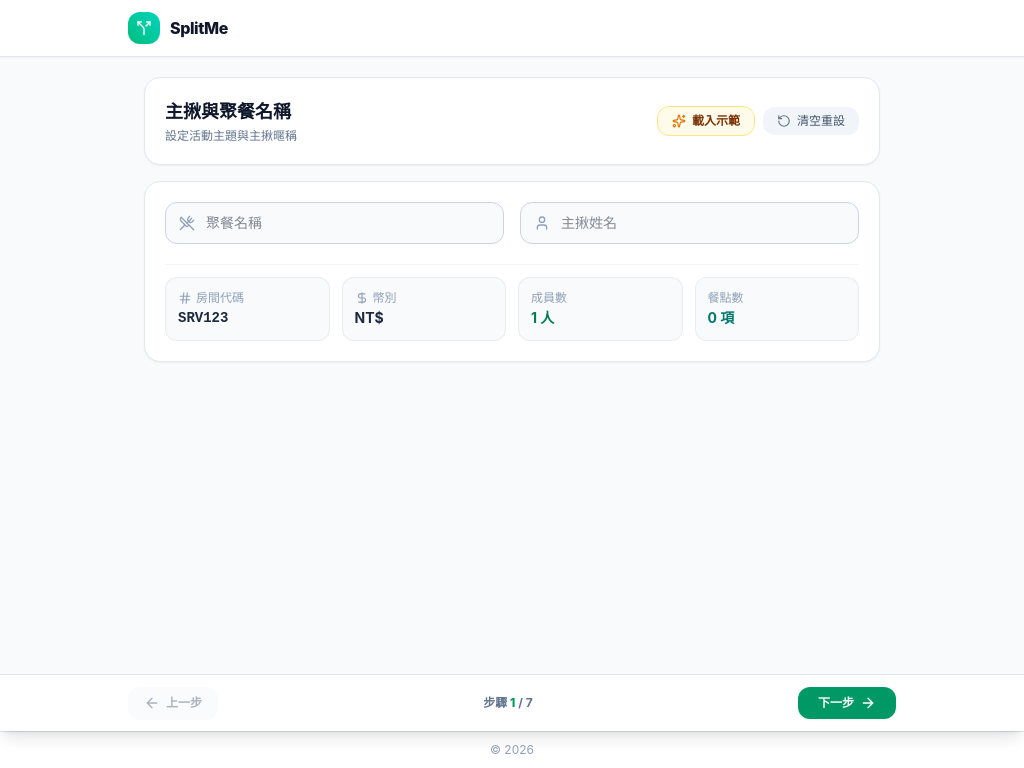
Scenario: App 7-Step Wizard Integration › gates collaborative share button in Step 5 based on live vs offline mode
Click the button "下一步": (847, 703) [798, 687, 896, 719]
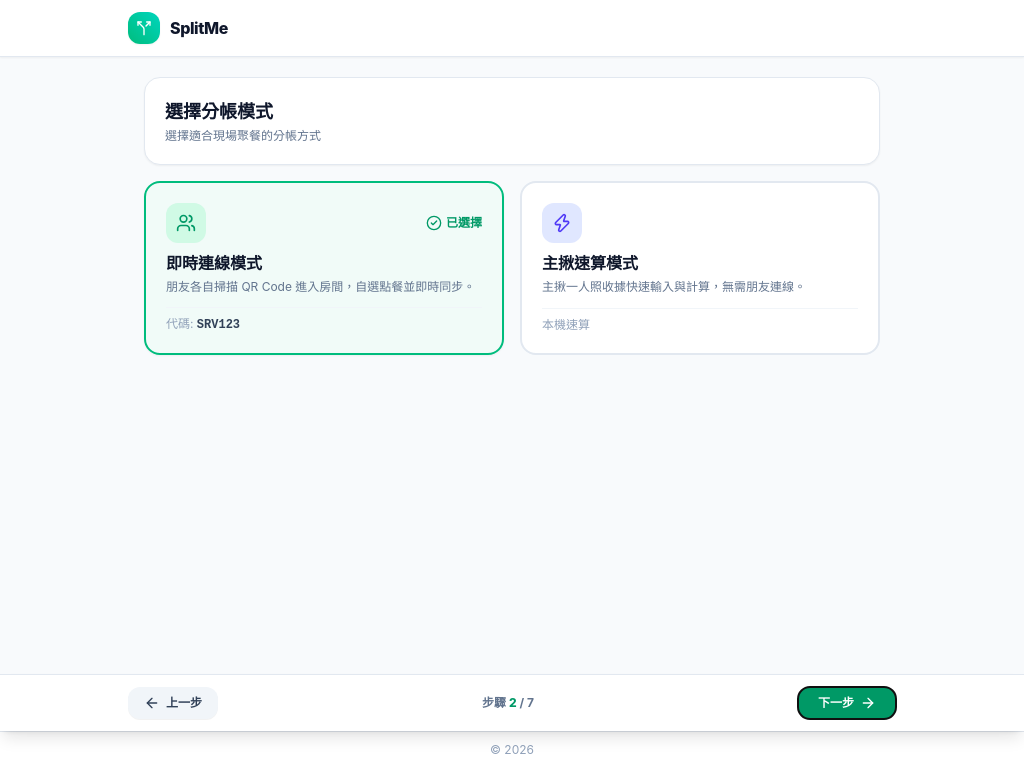
Click the button "下一步": (847, 703) [798, 687, 896, 719]
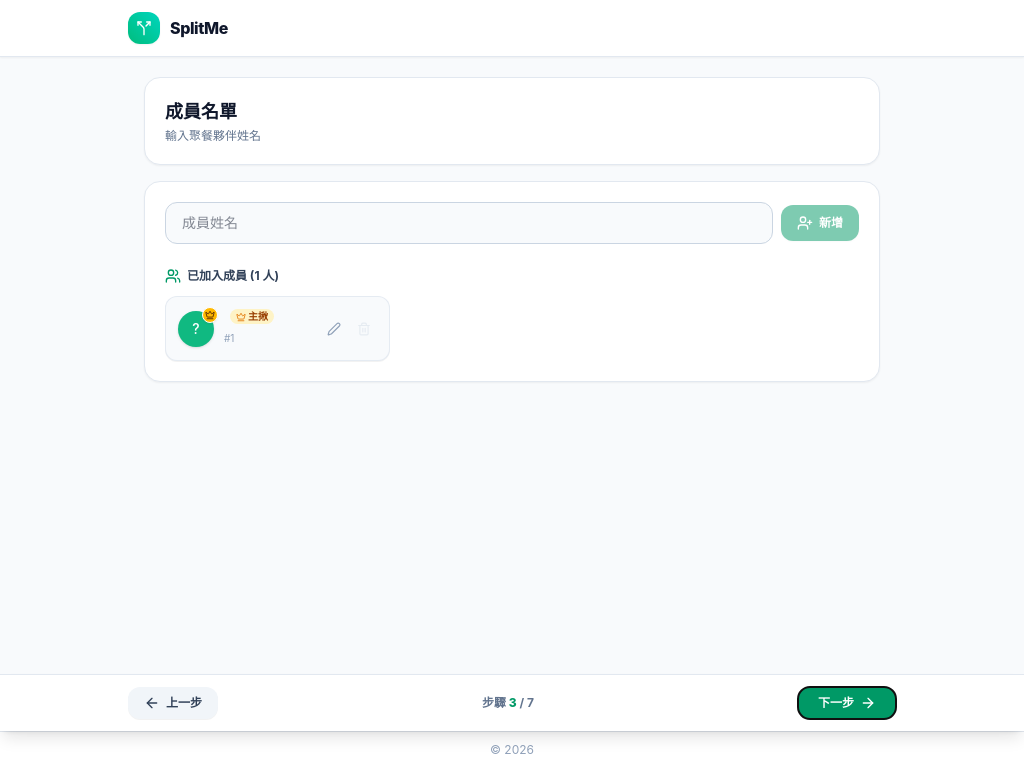
Click the button "下一步": (847, 703) [798, 687, 896, 719]
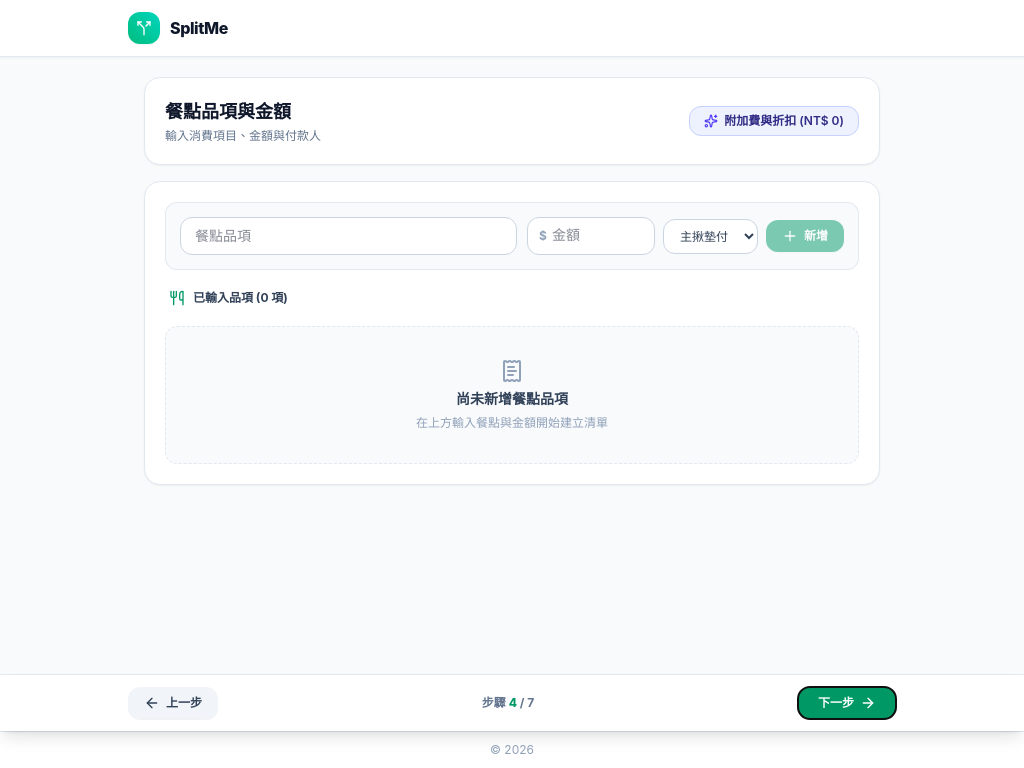
Click the button "下一步": (847, 703) [798, 687, 896, 719]
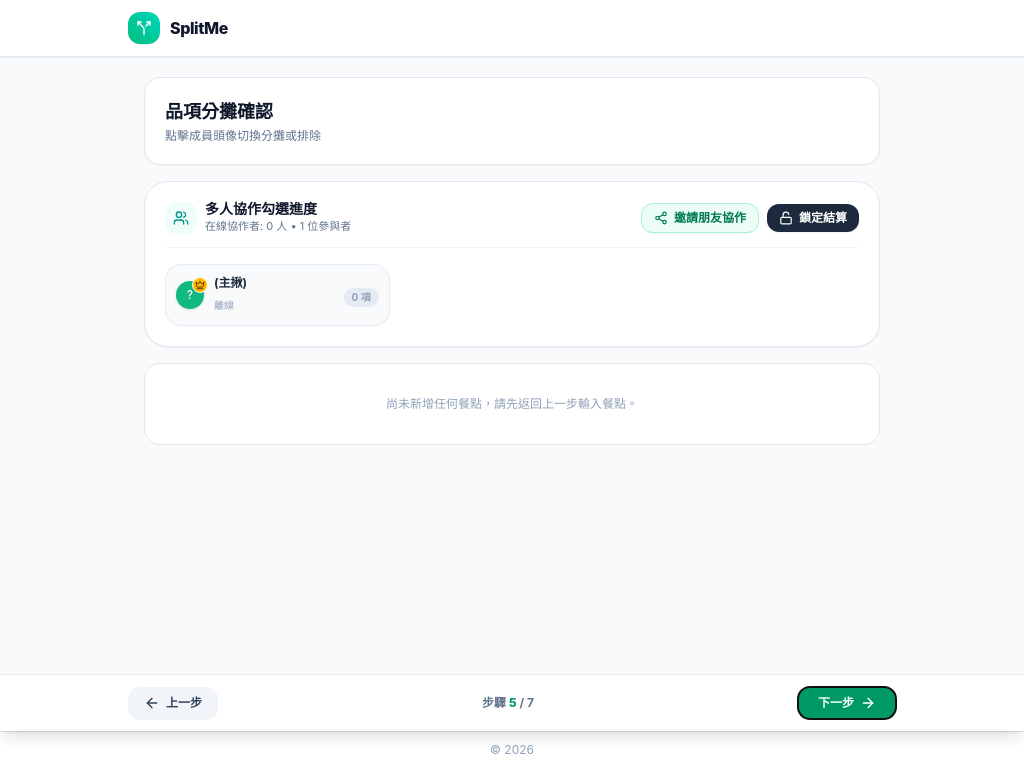
Check: the button "邀請朋友協作" is shown, box [641, 203, 759, 233]
